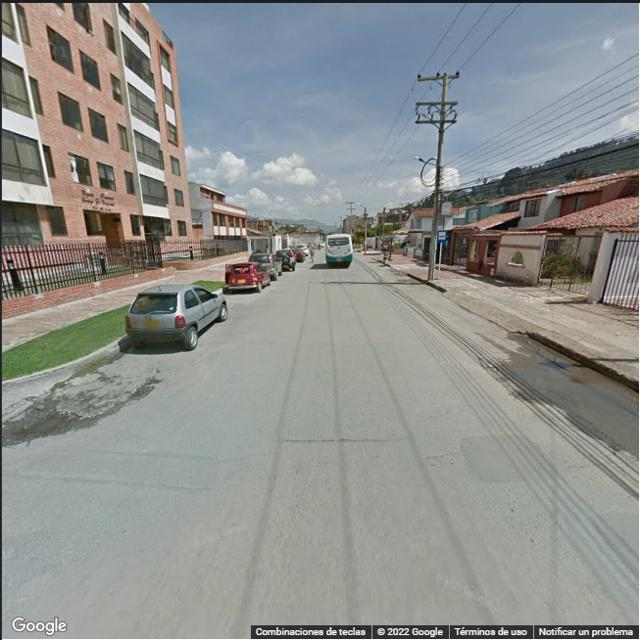D10: (278, 435, 398, 445), (407, 404, 461, 423), (419, 450, 460, 463)
